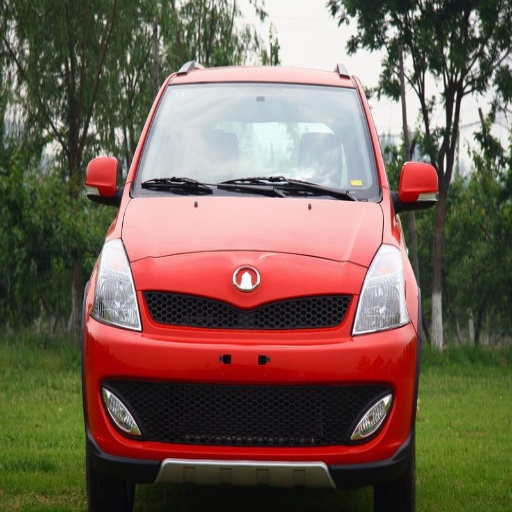front_bumper: (86, 258, 412, 465)
front_right_light: (88, 238, 142, 331)
hood: (121, 196, 383, 266)
left_mirror: (396, 162, 438, 210)
